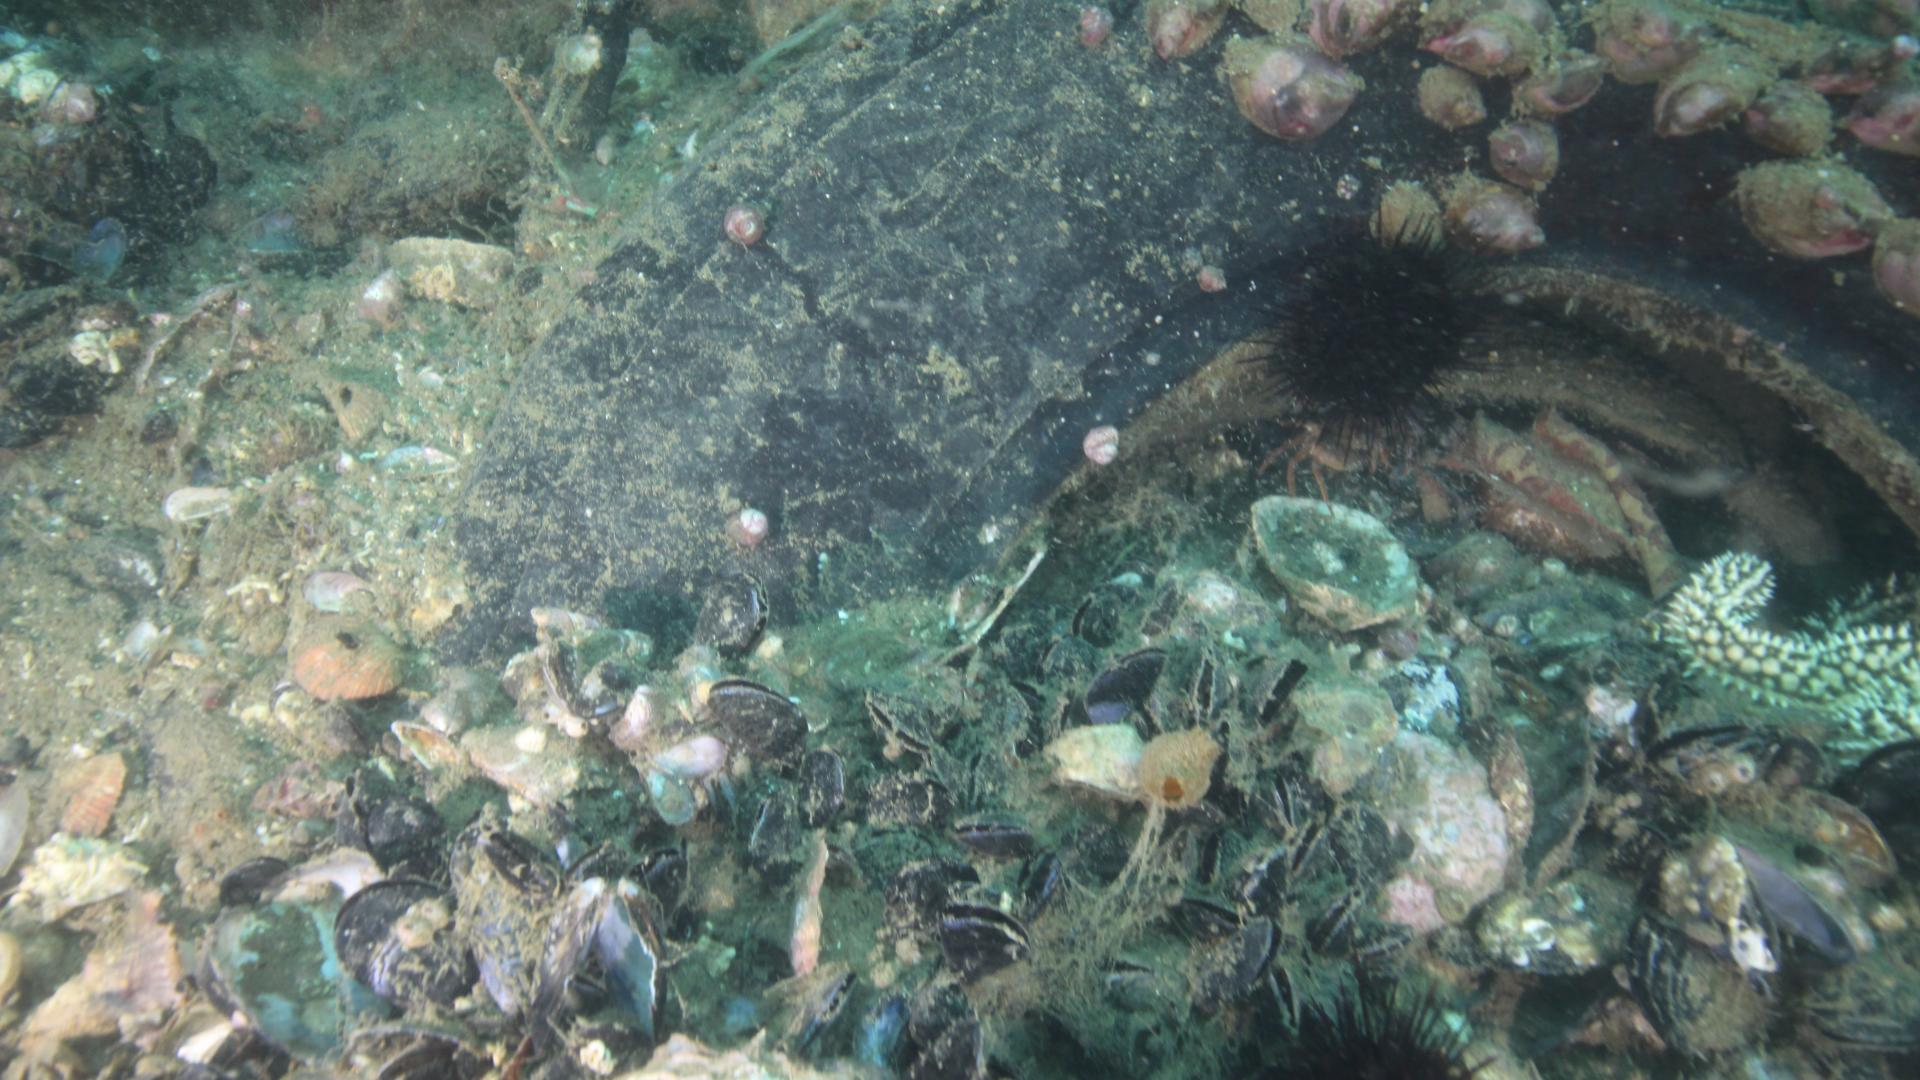tire: (415, 1, 1920, 665)
